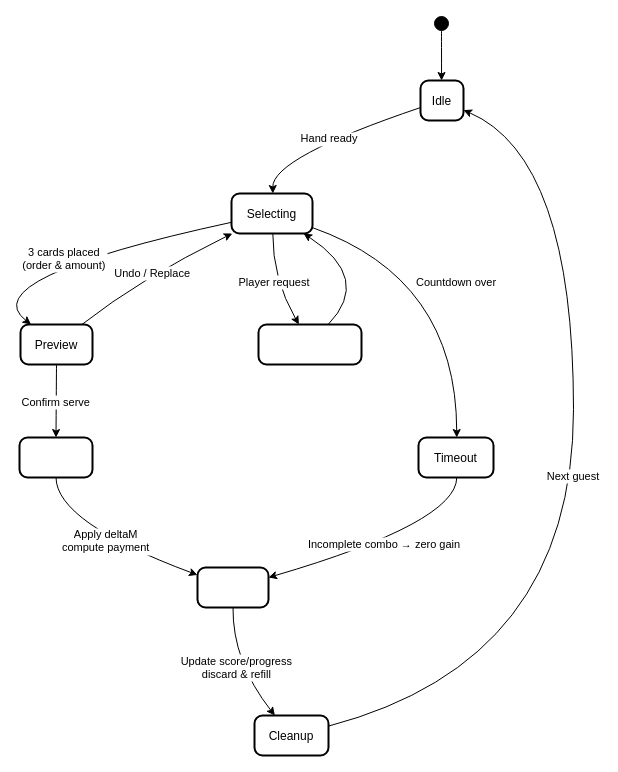
Image size: 618x772. Some labels were removed from this diagram. Here are the shapes that lost their labels. From the top down, the centre of each, then its label:
At [309,344]: "Switch Deck".
At [55,457]: "Confirm".
At [232,587]: "Settling".
